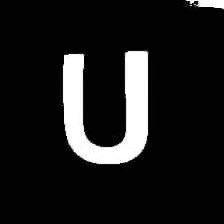LTR_U: (56, 41, 155, 171)
